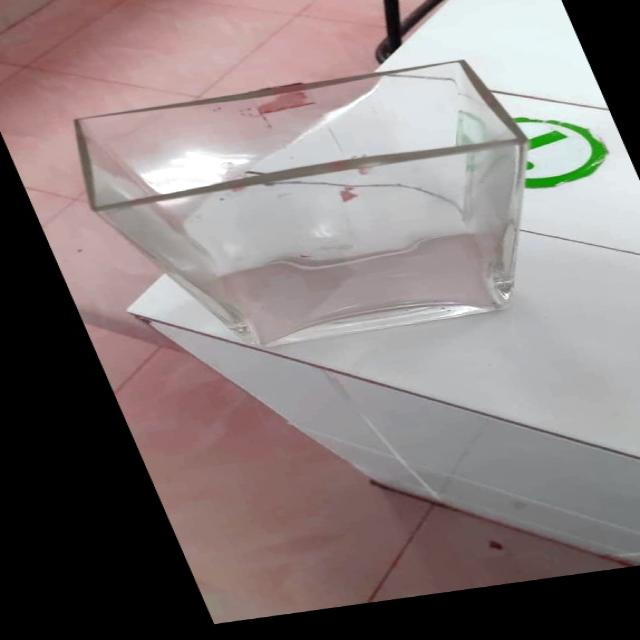TLC Tank: (32, 43, 609, 370)
